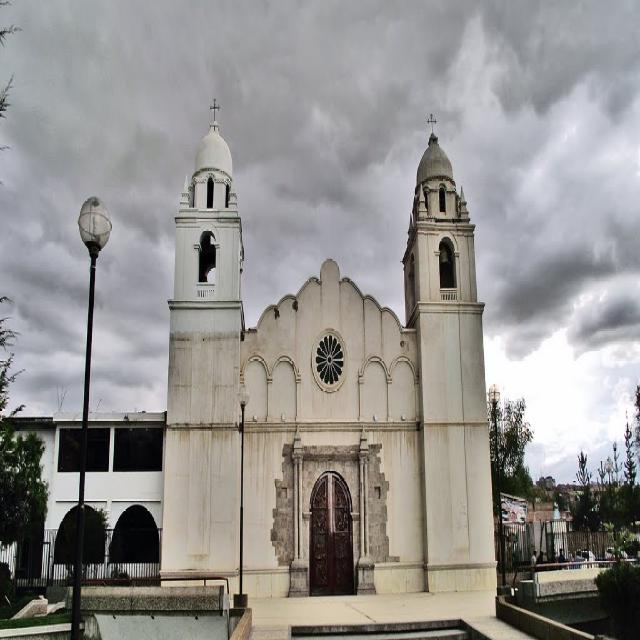CAMPANARIO: (391, 171, 485, 339), (158, 204, 260, 328)
CUPULA: (160, 134, 247, 224), (395, 138, 471, 217)
PORTADA CENTRAL: (292, 438, 374, 608)
SIMETRIA COLONIAL: (153, 89, 521, 625)
TORRES: (402, 110, 504, 616), (174, 92, 256, 598)
colonial-architecture-: (0, 72, 613, 618)
